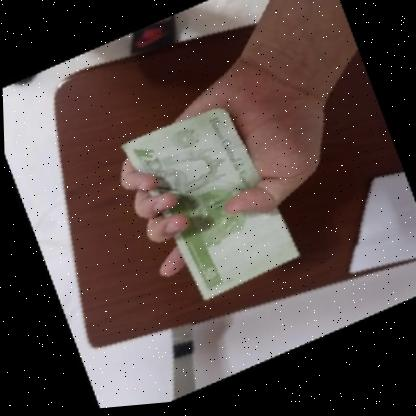fifty-back-vef: (115, 96, 303, 319)
